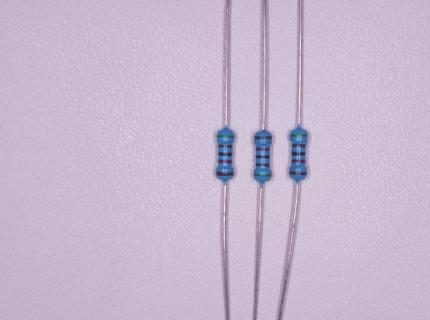Black band: (256, 155, 270, 159), (292, 151, 305, 155), (218, 153, 232, 156)
Brown band: (216, 171, 234, 176), (290, 171, 306, 175), (256, 163, 270, 167), (292, 144, 306, 148), (219, 144, 232, 148), (255, 136, 271, 139)
Green band: (290, 134, 308, 137), (217, 135, 234, 138), (254, 174, 271, 177)
Red band: (256, 147, 270, 151), (292, 159, 305, 163), (218, 160, 232, 163)
